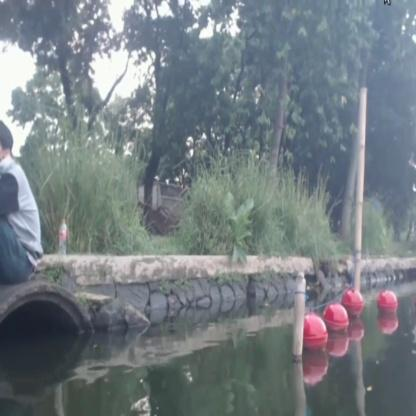red_buoy: (376, 290, 399, 322), (304, 318, 324, 352), (328, 303, 347, 337), (348, 291, 364, 319)
